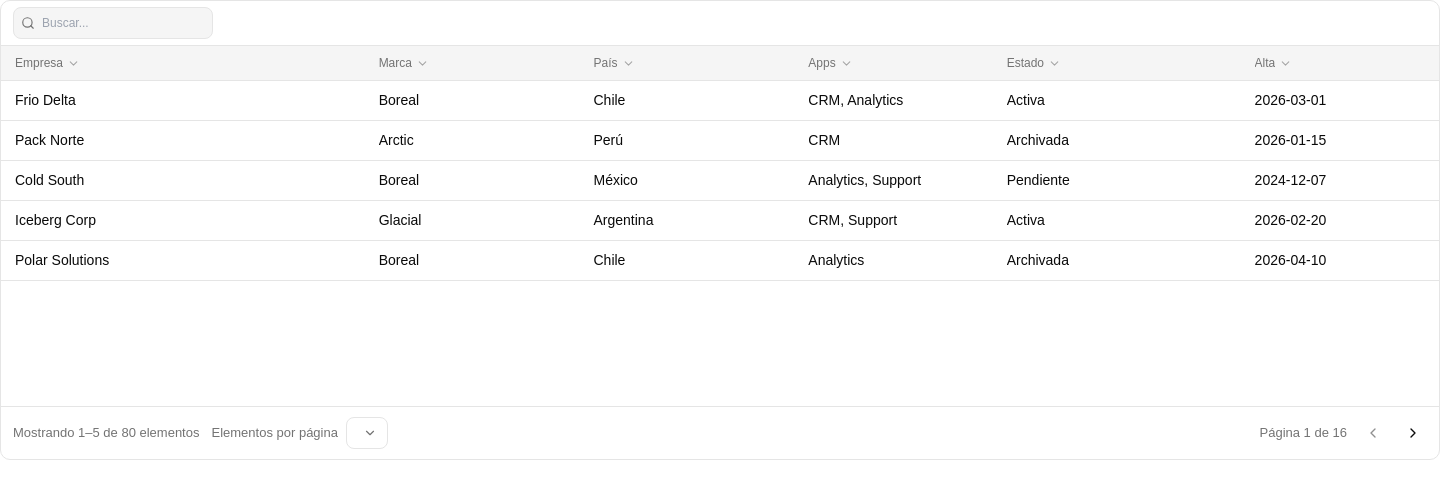
Test: paginates with the given page size and steps to the next page
The width and height of the screenshot is (1440, 477).
Check: the number of rows with class "gdy-table-row" is 5, box [1,80,1439,120]; [1,120,1439,160]; [1,160,1439,200]; [1,200,1439,240]; [1,240,1439,280]
Click the 2nd button with class "gdy-icon-btn" at (1413, 433), box [1399,419,1427,447]
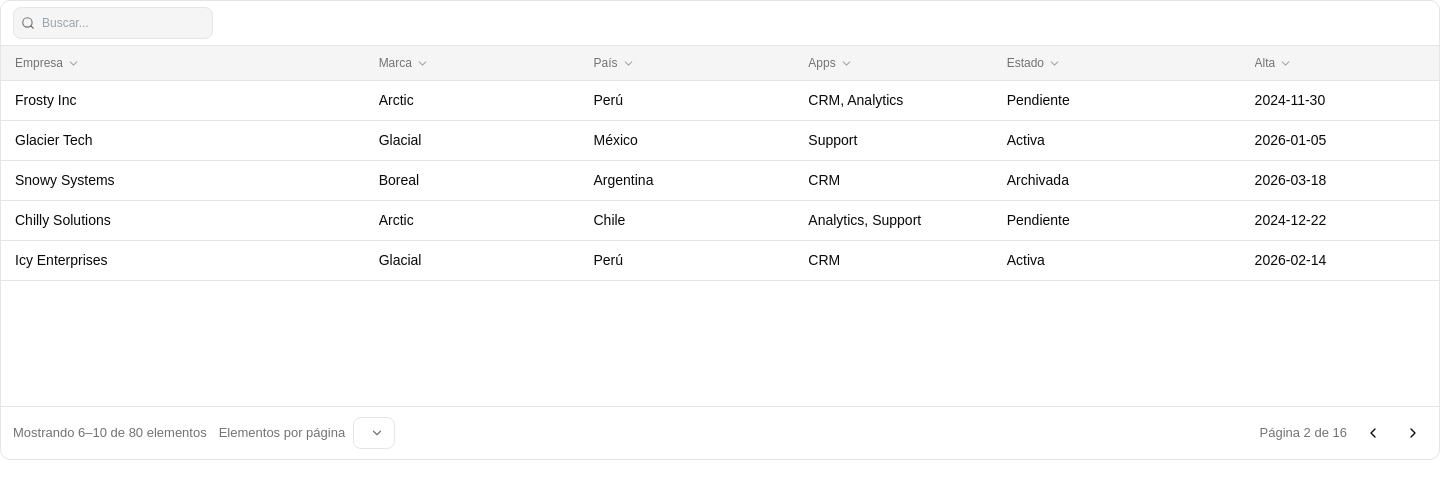
Check: the text "Frosty Inc" is shown, box [15,92,76,108]
